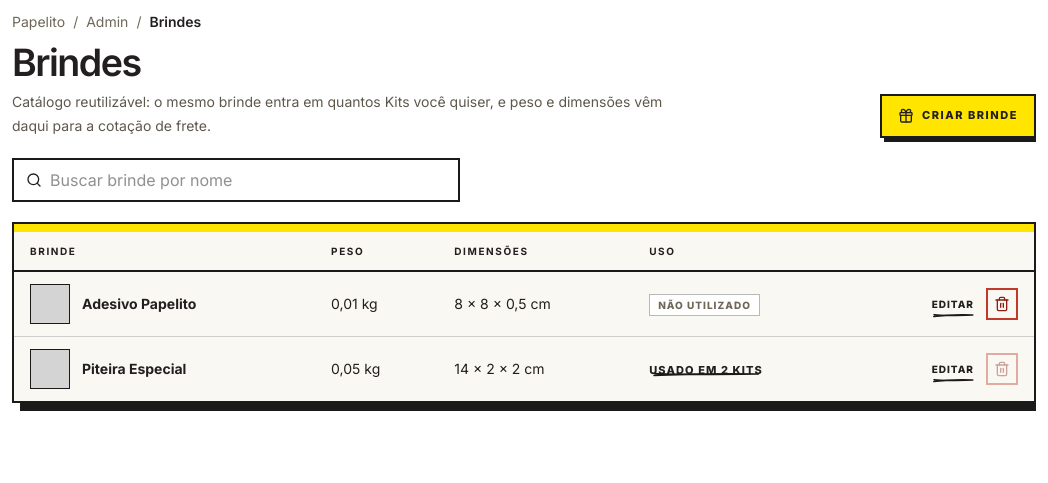
Test case: MerchandiseManager › lista os brindes com uso, distingue o não utilizado e busca por nome
This screenshot has width=1048, height=483.
Expected: the text "Piteira Especial" is shown, x1=82 y1=359 x2=186 y2=379
Expected: the text "Adesivo Papelito" is shown, x1=82 y1=294 x2=196 y2=314
Click the button "Usado em 2 kits" at (706, 371), box x1=649 y1=363 x2=763 y2=379
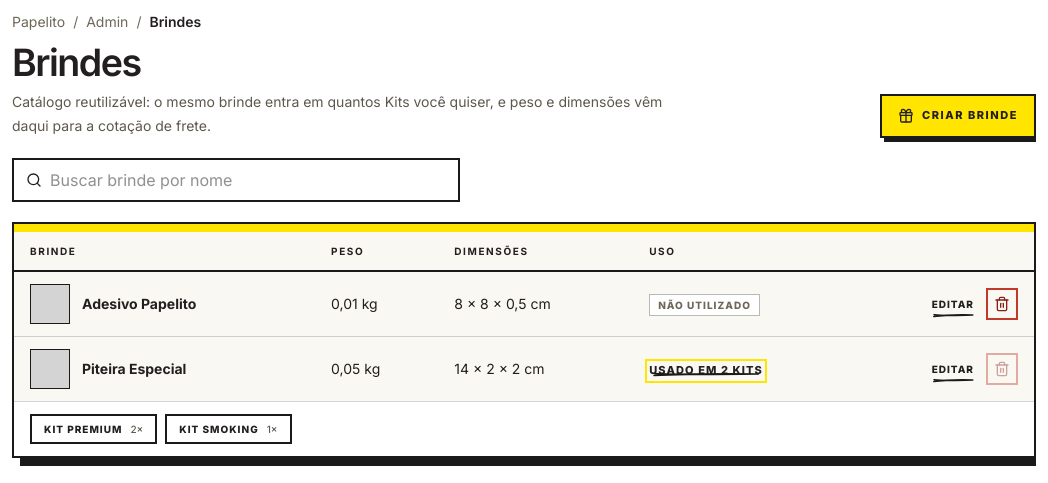
Type "adesivo" into the field with placeholder "Buscar brinde por nome" at (248, 180), box x1=50 y1=168 x2=446 y2=192
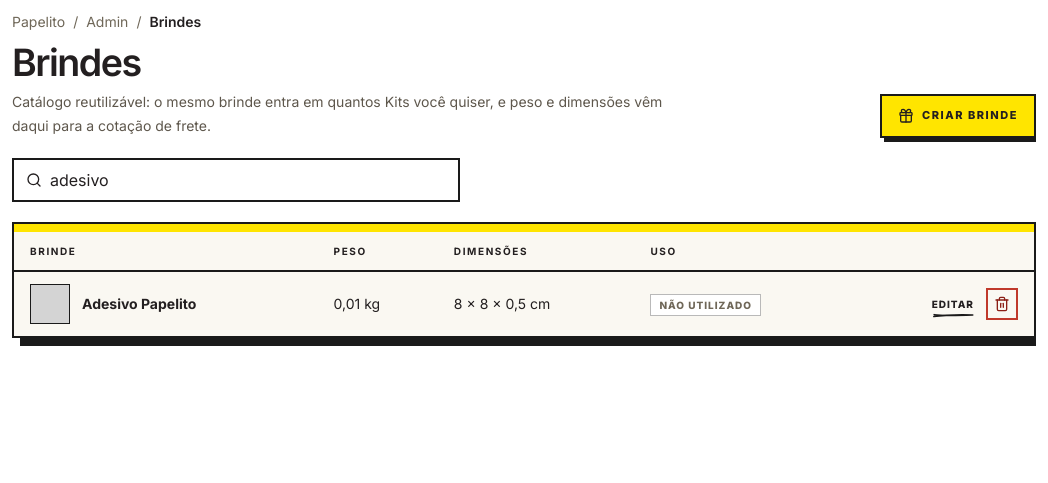
Expected: the text "Adesivo Papelito" is shown, x1=82 y1=294 x2=196 y2=314
Expected: the text "Piteira Especial" is gone
